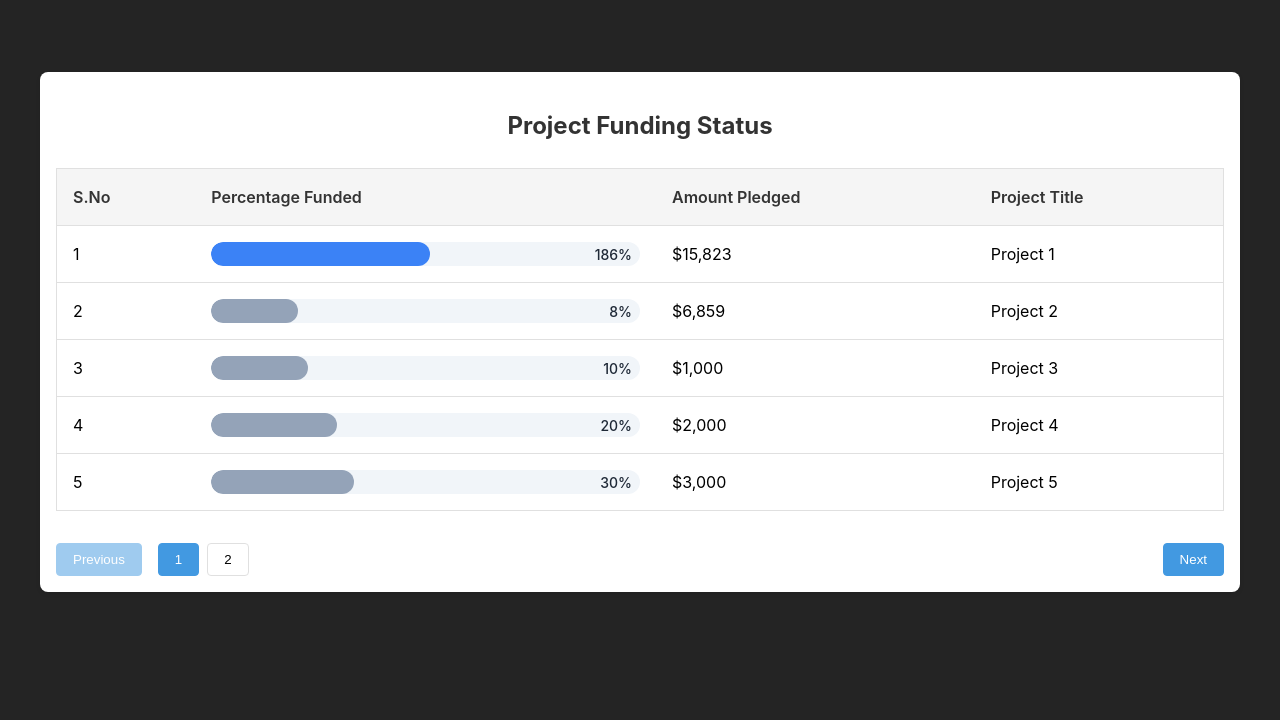
Scenario: ProjectTable Component › Pagination › handles previous page navigation
What coordinates should you click on to do the following:
click the button "Next"
I would click on:
 (1193, 559)
Its box is [1163,543,1224,576].
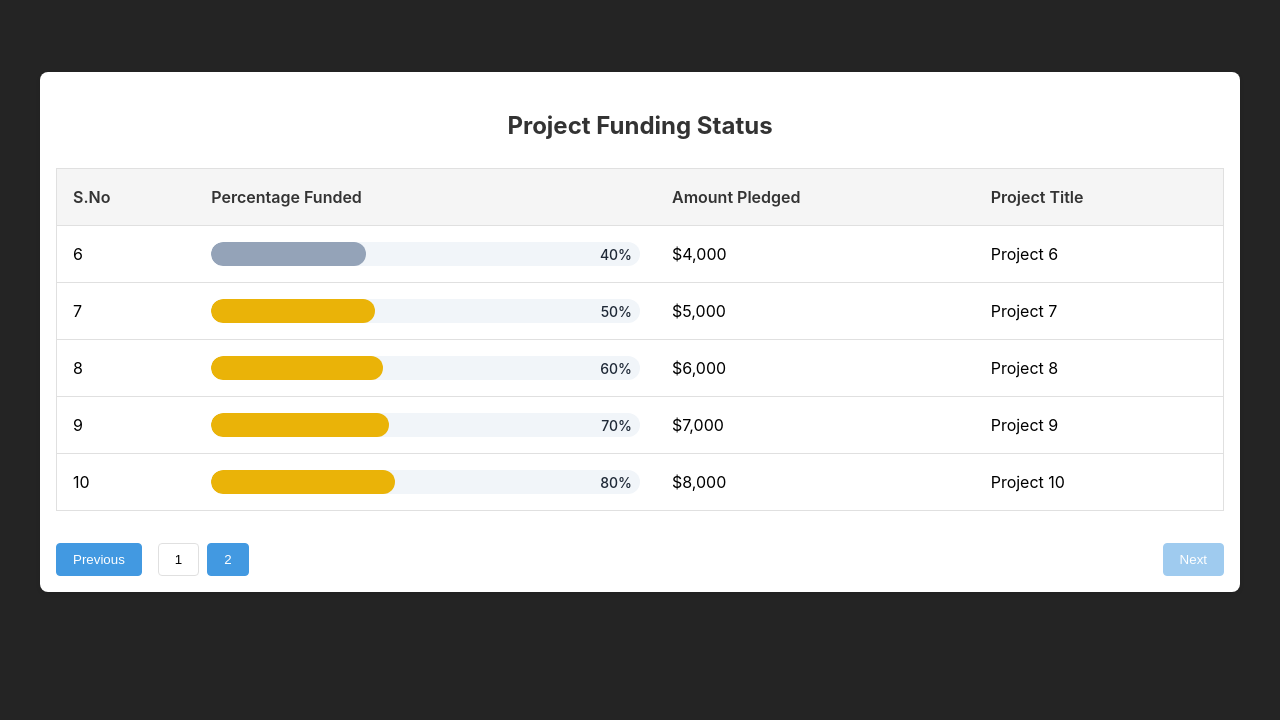
Expected: the text "Project 6" is shown, [975,225,1224,282]
What coordinates should you click on to do the following:
click the button "Previous"
I would click on:
 (99, 559)
Its box is [56,543,142,576].
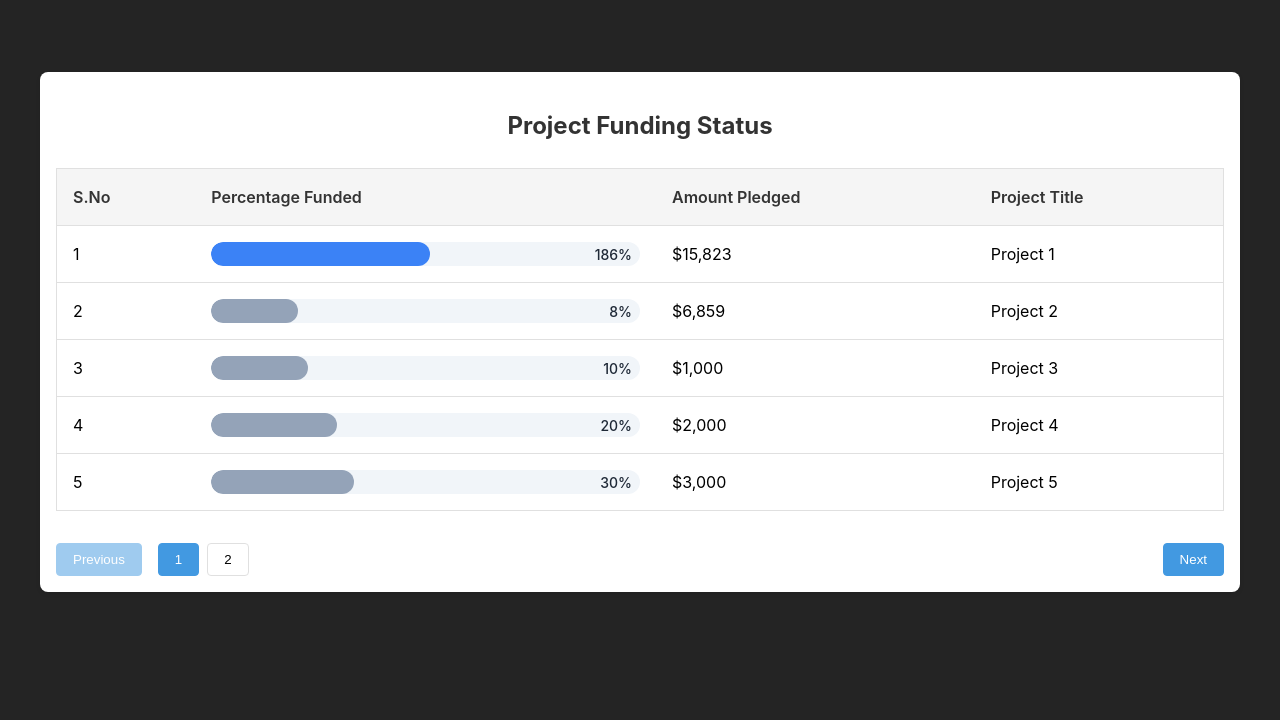
Expected: the text "Project 1" is shown, [975,225,1224,282]
